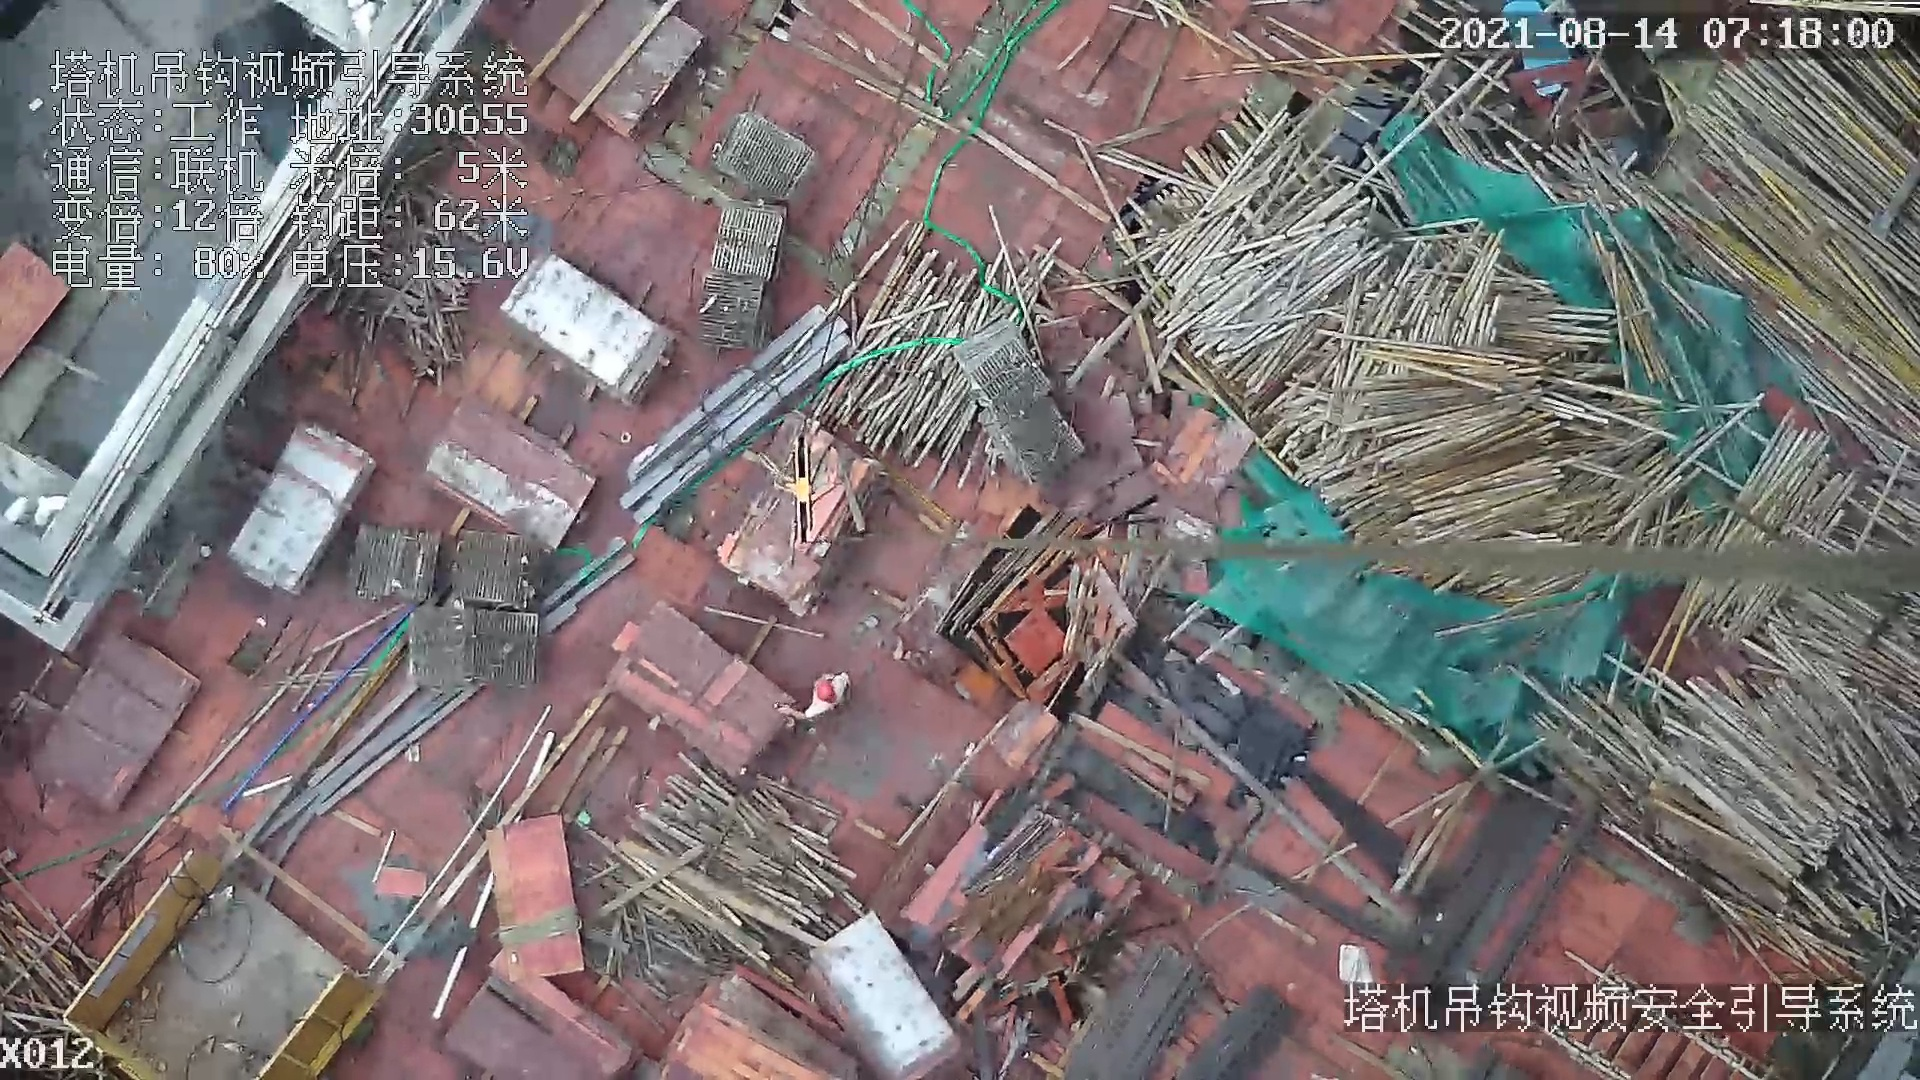helmet: (811, 674, 841, 704)
hook: (770, 439, 826, 551)
person: (769, 674, 858, 724)
